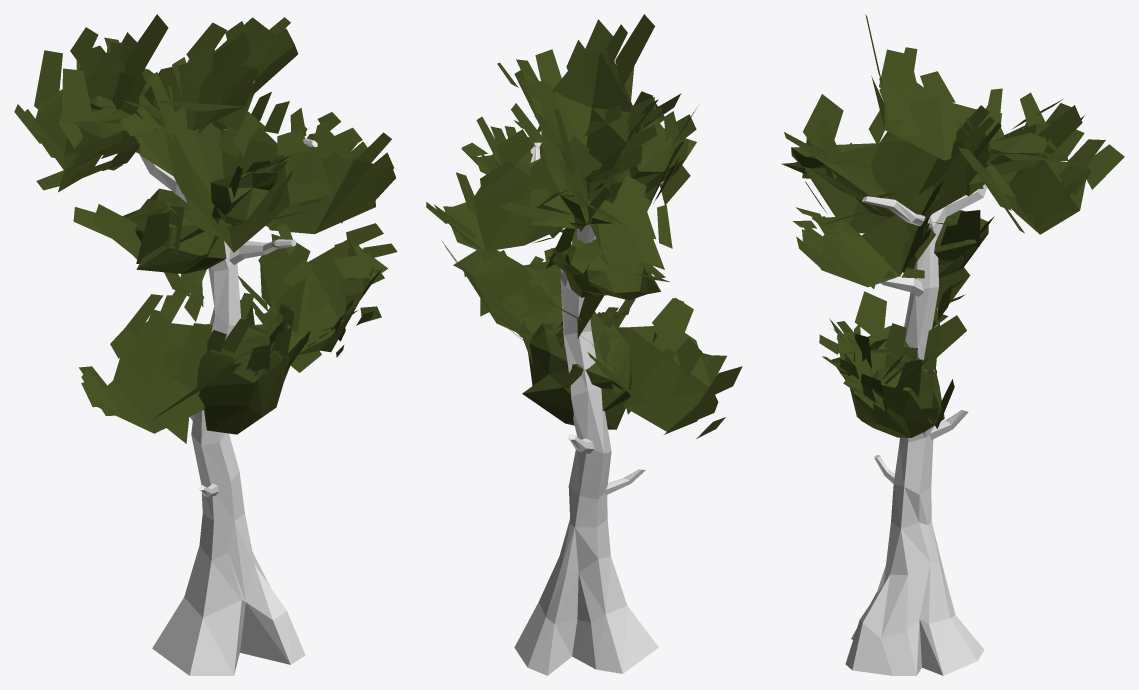
File: tree-juniper-young-a.gltf
3 renders of one model, left to right at view 1: azimuth 30°, elevation 25°; view 2: azimuth 150°, elevation 25°; view 3: azimuth 270°, elevation 25°, orthographic. The views are drawn at different scales.
Parts seen in each view (by area): view 1: tree-juniper-young-a; view 2: tree-juniper-young-a; view 3: tree-juniper-young-a.
Boxes of the visible parts, left/top/right/bottom form: tree-juniper-young-a: left=14, top=14, right=397, bottom=675; tree-juniper-young-a: left=426, top=14, right=742, bottom=675; tree-juniper-young-a: left=782, top=14, right=1124, bottom=675.
Bounding box in the file's own units: 0.0153 × 0.0318 × 0.0165.
